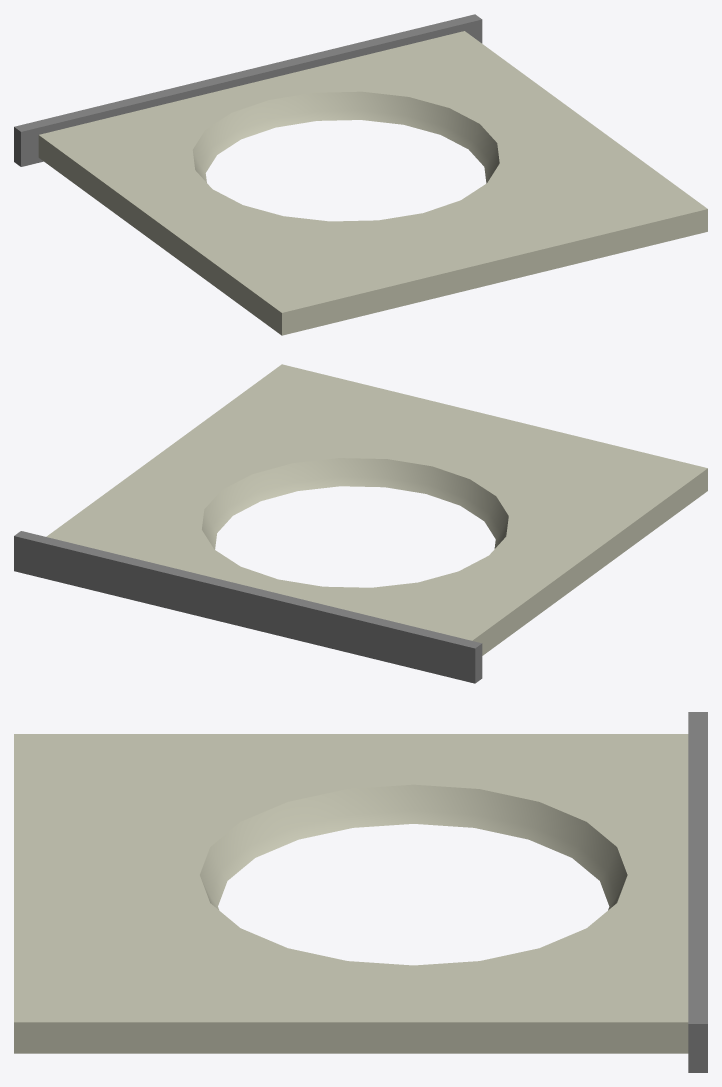
Rendered from EstanteBamdeja.obj.
The picture shows the model from 3 angles, top to bottom: view 1: azimuth 30°, elevation 25°; view 2: azimuth 150°, elevation 25°; view 3: azimuth 270°, elevation 25°; orthographic projection. The views are drawn at different scales.
Parts seen in each view (by area): view 1: pCube66; view 2: pCube66; view 3: pCube66.
Boxes of the visible parts, box(x1,y1,x2,y2) form: pCube66: box(14, 14, 707, 335); pCube66: box(14, 364, 707, 683); pCube66: box(14, 712, 707, 1072).
Bounding box in the file's own units: 0.7049 × 0.0514 × 0.6628.
1 material, 1 textured.
